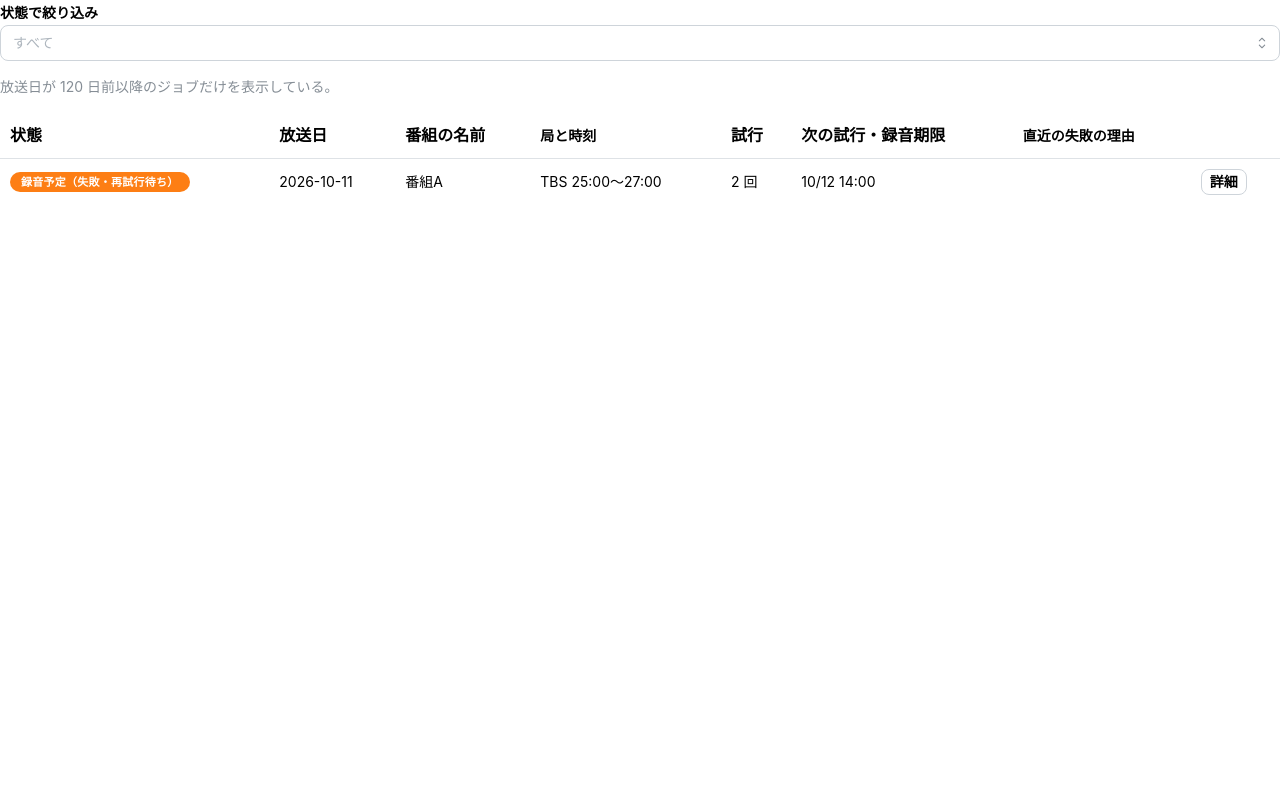
JobsPage › ライブ録音の保存を自動でやり直している間は、その打ち切りを 1 行出す
Click the button with aria-label "番組Aの詳細". click: click(1224, 182)
box: x1=1201 y1=169 x2=1247 y2=195
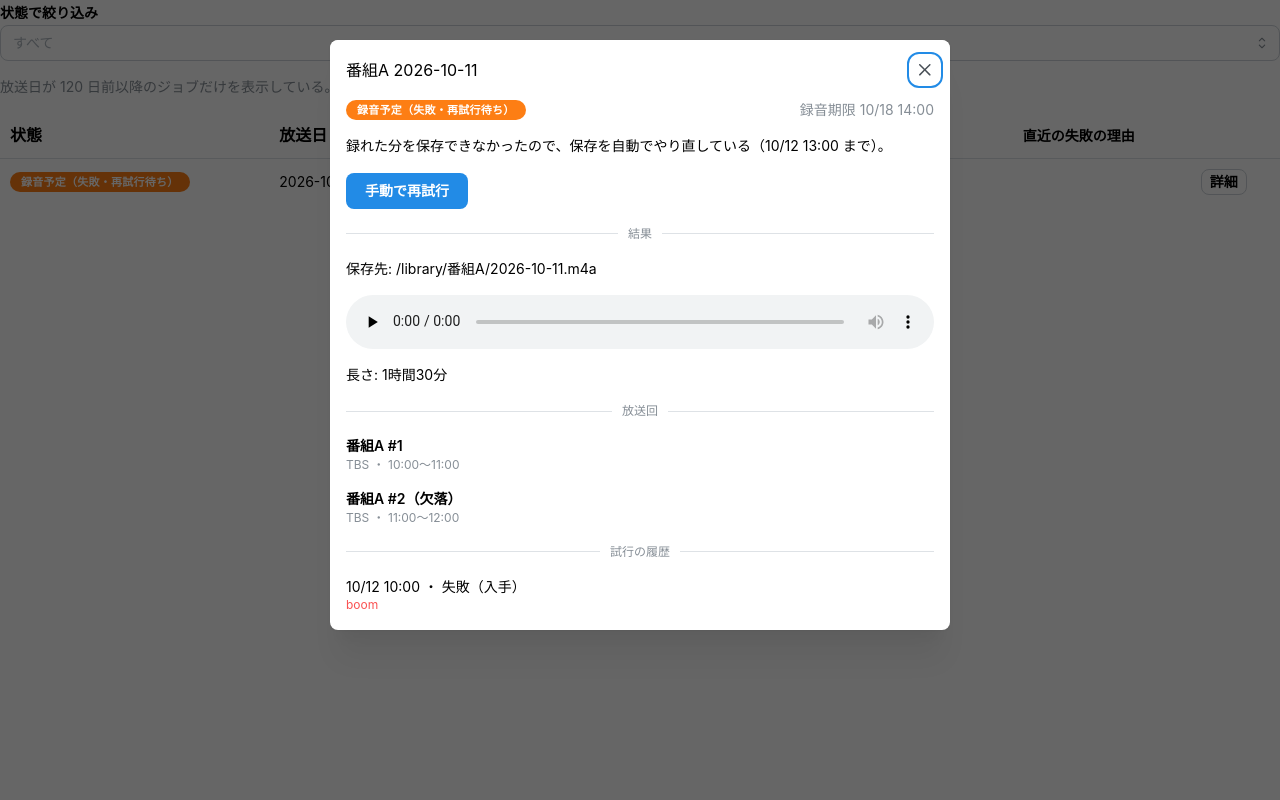
Result: the text "録れた分を保存できなかったので、保存を自動でやり直している（10/12 13:00 まで）。" is shown at x1=346 y1=136 x2=934 y2=157
